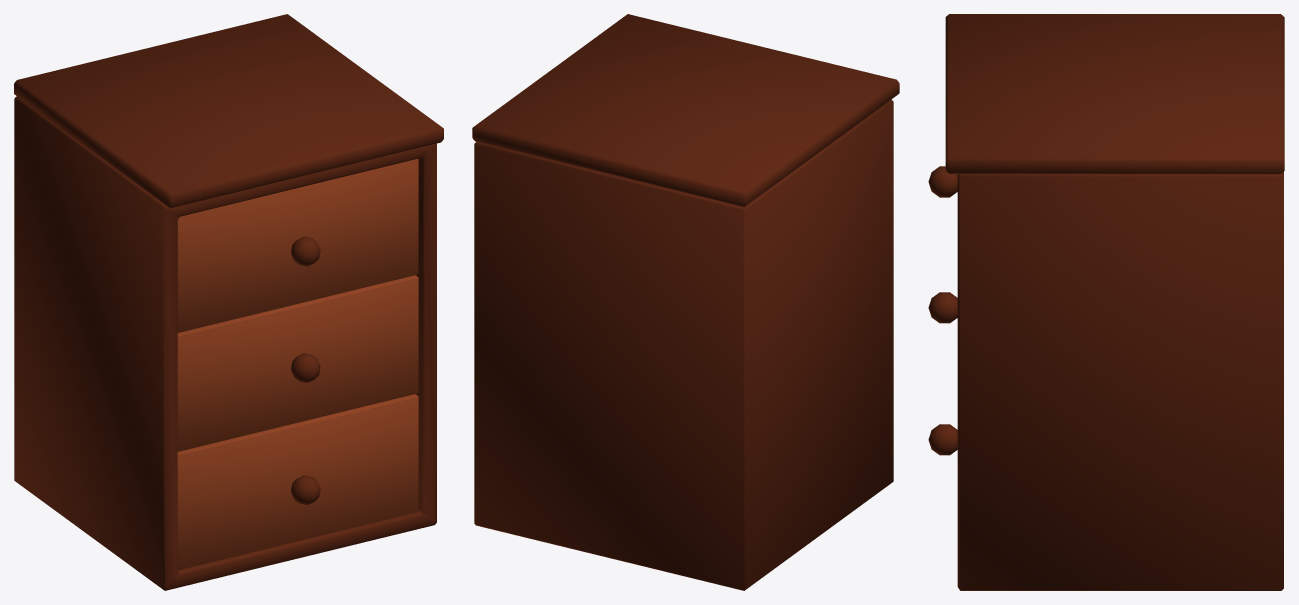
The model's file is hh_bedside.glb.
3 renders of one model, left to right at view 1: azimuth 30°, elevation 25°; view 2: azimuth 150°, elevation 25°; view 3: azimuth 270°, elevation 25°, orthographic. The views are drawn at different scales.
Visible parts, largest first — view 1: Drawer_B, Drawer_B002, Drawer_B003, Drawer_B001; view 2: Drawer_B; view 3: Drawer_B, Drawer_B003, Drawer_B002, Drawer_B001.
Boxes of the visible parts, x1,y1,x2,y2 form: Drawer_B: (14, 14, 443, 590); Drawer_B002: (177, 275, 418, 451); Drawer_B003: (177, 394, 418, 570); Drawer_B001: (177, 158, 418, 332); Drawer_B: (472, 14, 899, 590); Drawer_B: (945, 14, 1284, 590); Drawer_B003: (928, 424, 957, 455); Drawer_B002: (928, 292, 957, 323); Drawer_B001: (928, 166, 957, 197).
Size of the model in its own units: 0.5083 by 0.7069 by 0.5247.
